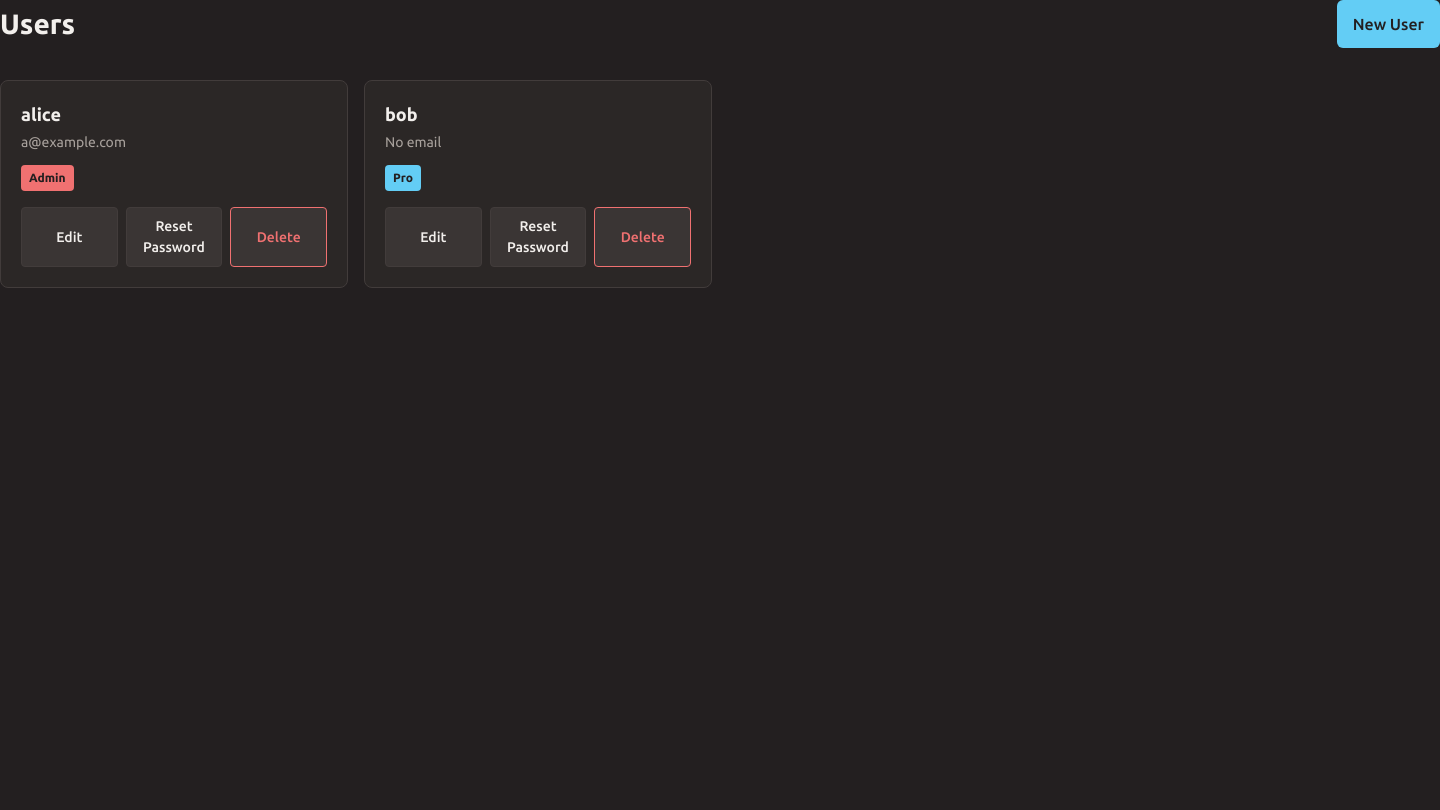
AdminUsers plan control › opens the editor on the account's current plan
Step 1. Click the button "Edit" below "Pro" → (433, 237), box top-left (385, 207), bottom-right (482, 267)
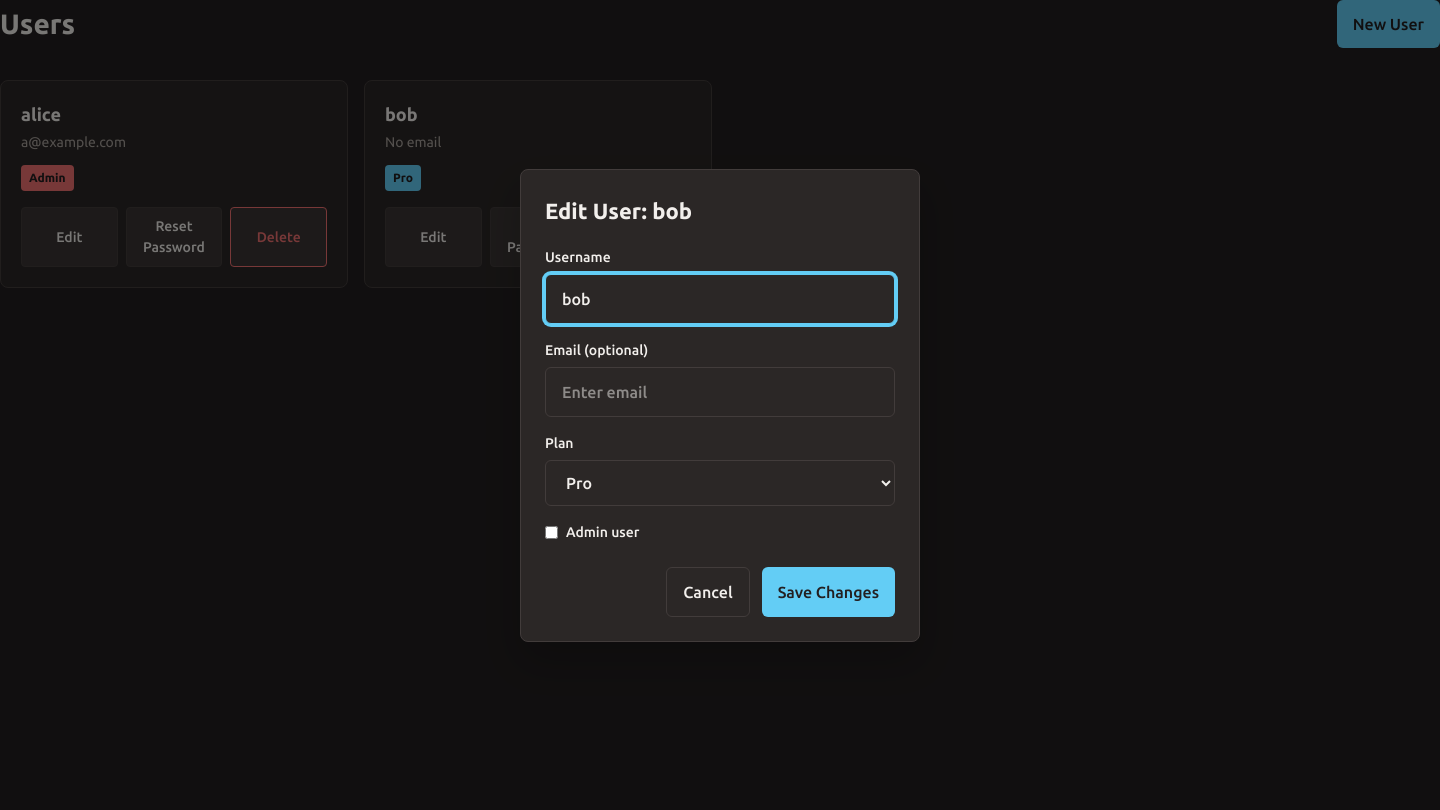
Now the dropdown labelled "Plan" shows "Pro", box top-left (545, 460), bottom-right (895, 506)
